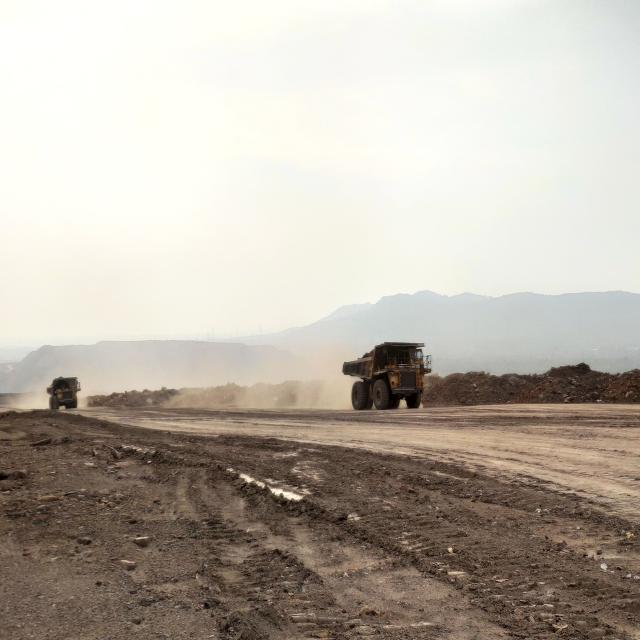dump_truck: (342, 342, 431, 410), (46, 377, 80, 410)
